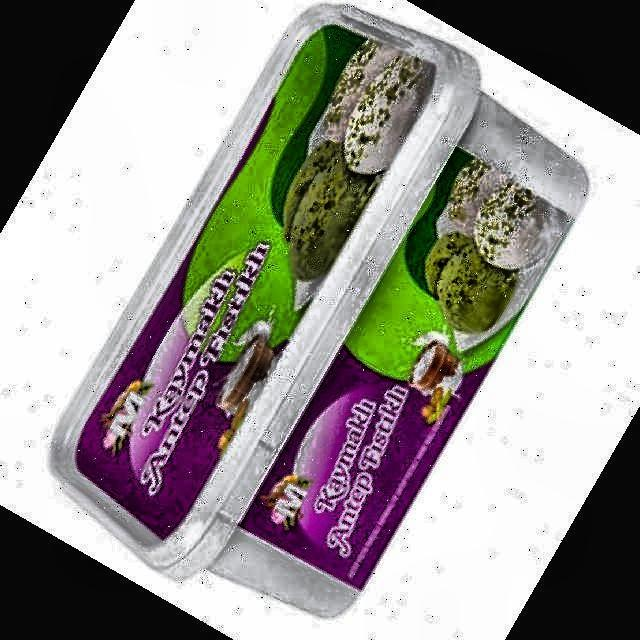plastic: (52, 4, 589, 616)
